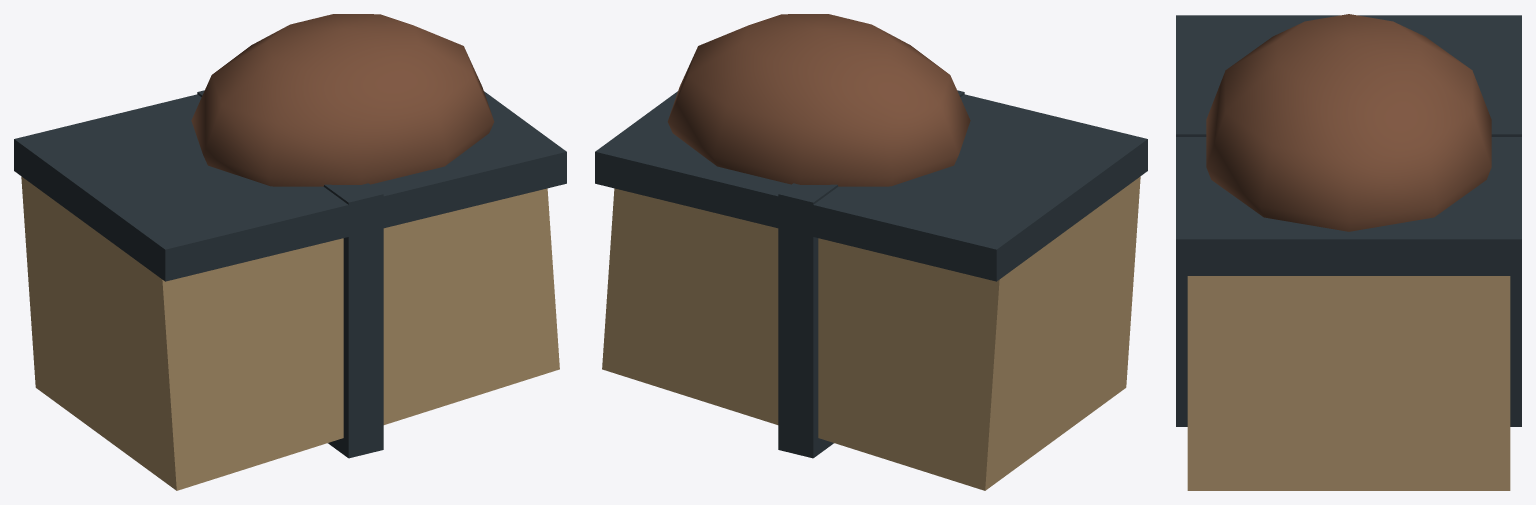
File: fixed-ration.glb
3 views of the same model, side by side, from view 1: azimuth 30°, elevation 25°; view 2: azimuth 150°, elevation 25°; view 3: azimuth 270°, elevation 25° (orthographic). The views are drawn at different scales.
Visible parts, largest first — view 1: piece_whole; view 2: piece_whole; view 3: piece_whole.
Part boxes in pixels (bbox=[...]): piece_whole: bbox=[14, 14, 566, 490]; piece_whole: bbox=[595, 14, 1147, 490]; piece_whole: bbox=[1176, 14, 1521, 490].
Size of what is drawn, in the model's own units: 0.46 by 0.39 by 0.3.
